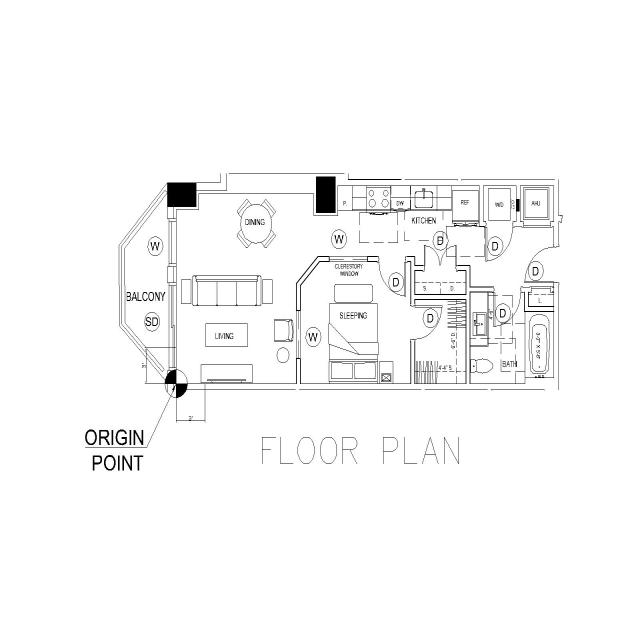Column: (166, 180, 198, 210), (316, 174, 336, 214)
Door: (553, 244, 559, 284), (493, 284, 523, 292), (422, 265, 457, 270), (410, 302, 414, 342), (376, 256, 408, 260), (485, 221, 514, 225)
Sliding Door: (168, 283, 177, 373)
Window: (168, 219, 178, 267), (295, 307, 302, 359), (328, 256, 369, 262)
